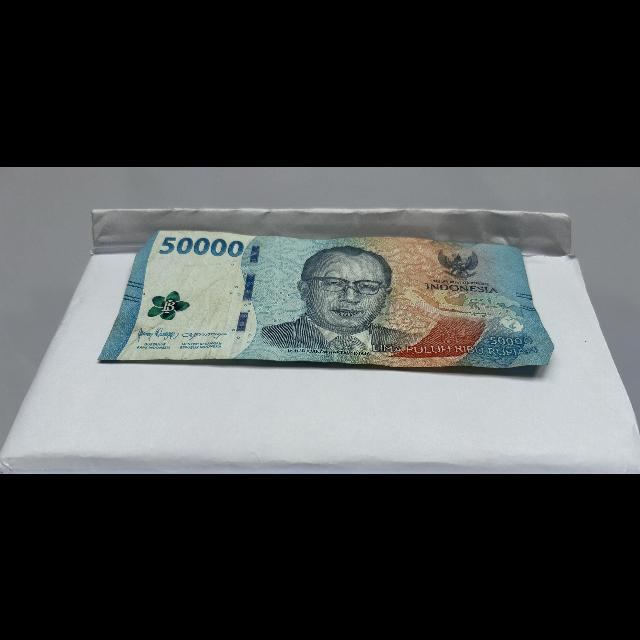Asli-50k: (92, 225, 568, 376)
Tinta-Asli-50k: (144, 287, 194, 322)
